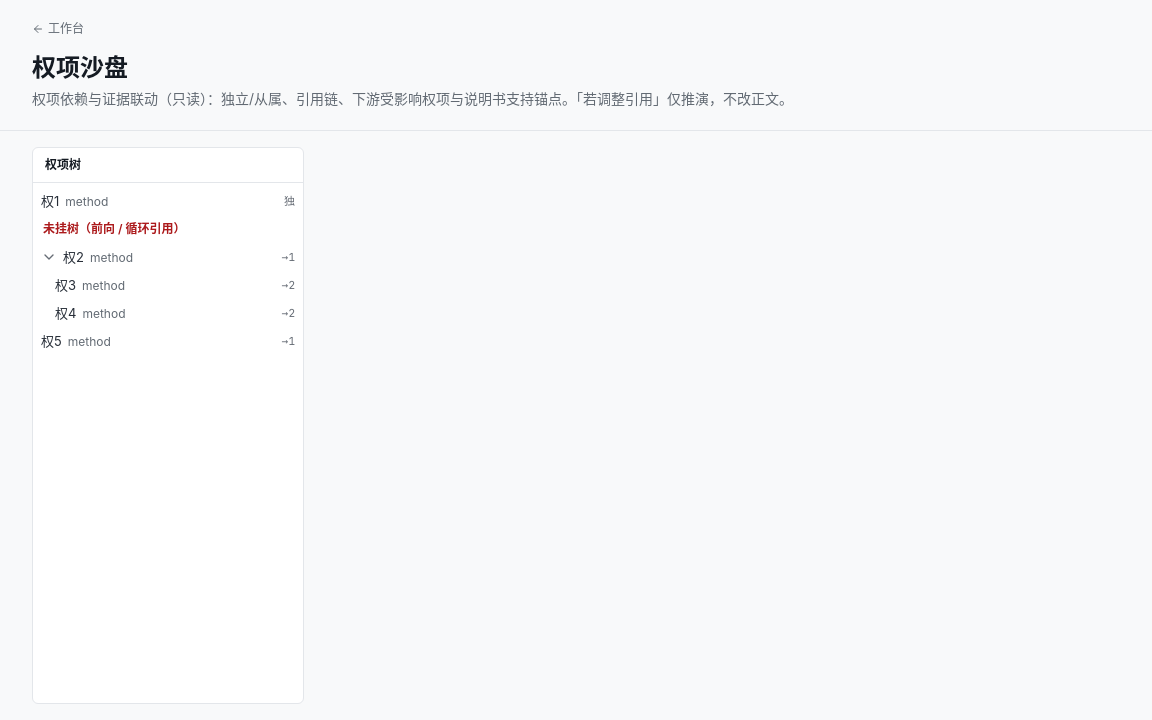
Test: ClaimsSandboxPage 复核项1/2 › detail 乱序闸：快选 2→5，晚到的 2 响应不得覆盖 5
Click the list item "权2method →1". click: (111, 258)
box: [41, 249, 295, 265]
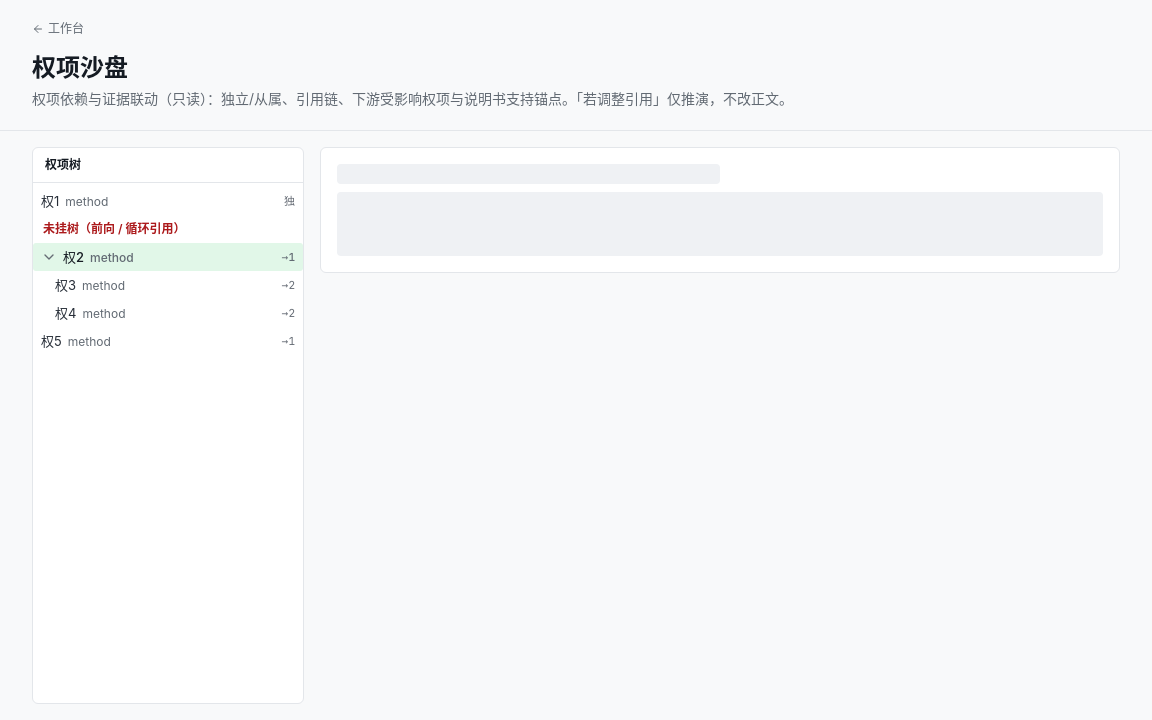
Click the list item "权5method →1". click: (89, 342)
box: [41, 333, 295, 349]
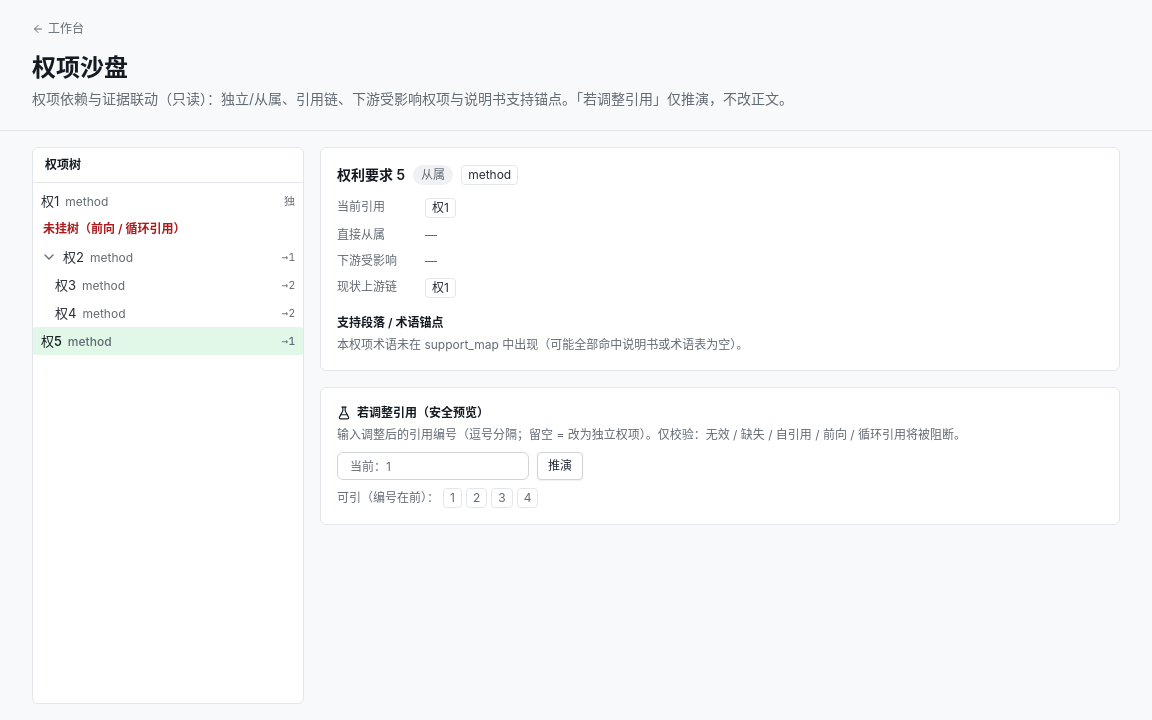
Expected: the element with test id "claim-detail" shows "权利要求 5", [320, 147, 1120, 371]
